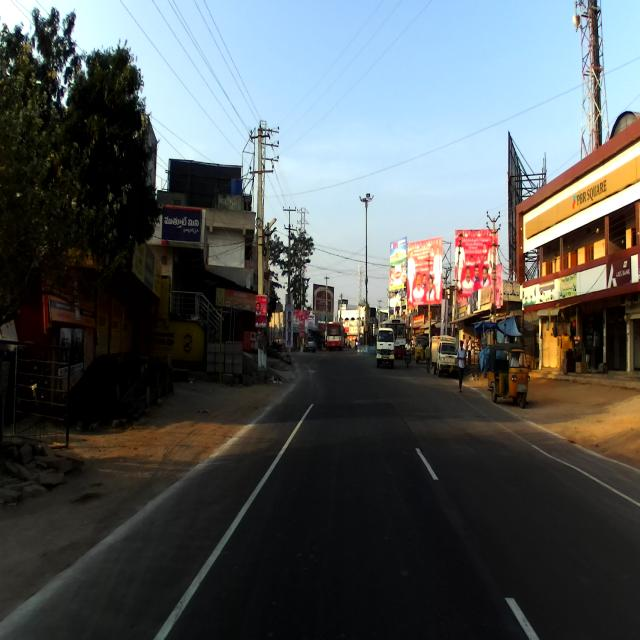auto ahead at: (490, 342, 530, 412)
electric pole ahead at: (239, 115, 289, 382)
